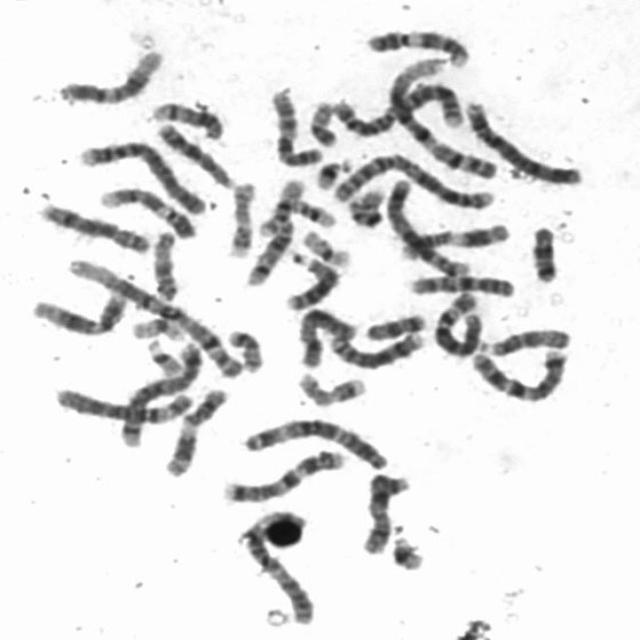A1: (58, 252, 251, 379), (382, 50, 501, 181)
A2: (325, 146, 498, 210), (325, 75, 466, 139)
A3: (234, 506, 318, 627), (236, 410, 393, 472)
B4: (456, 93, 584, 187), (72, 132, 211, 218)
B5: (112, 335, 206, 449), (378, 170, 474, 278)
C10: (262, 81, 326, 168), (400, 268, 518, 298)
C11: (157, 380, 231, 479), (392, 215, 512, 261)
C12: (52, 41, 167, 106), (24, 284, 132, 338)
C6: (47, 378, 195, 426), (427, 286, 487, 358)
C7: (214, 442, 348, 504), (464, 341, 570, 404)
C8: (31, 194, 153, 254), (321, 325, 428, 370)
C9: (92, 180, 199, 241), (358, 21, 474, 68)
D13: (150, 114, 238, 190), (278, 247, 342, 312)
D14: (238, 195, 297, 288), (145, 94, 227, 141)
D15: (472, 320, 574, 357), (144, 222, 181, 303)
E16: (252, 173, 308, 238), (341, 180, 388, 229)
E17: (288, 364, 370, 408), (218, 172, 258, 260)
E18: (358, 306, 428, 343), (523, 218, 562, 284)
F19: (293, 225, 354, 274), (124, 308, 188, 342)
F20: (220, 322, 266, 374), (301, 93, 340, 148)
G21: (384, 526, 428, 572), (308, 150, 353, 191)
G22: (138, 332, 186, 377), (283, 202, 341, 231)
X: (354, 465, 413, 557), (290, 300, 360, 370)
